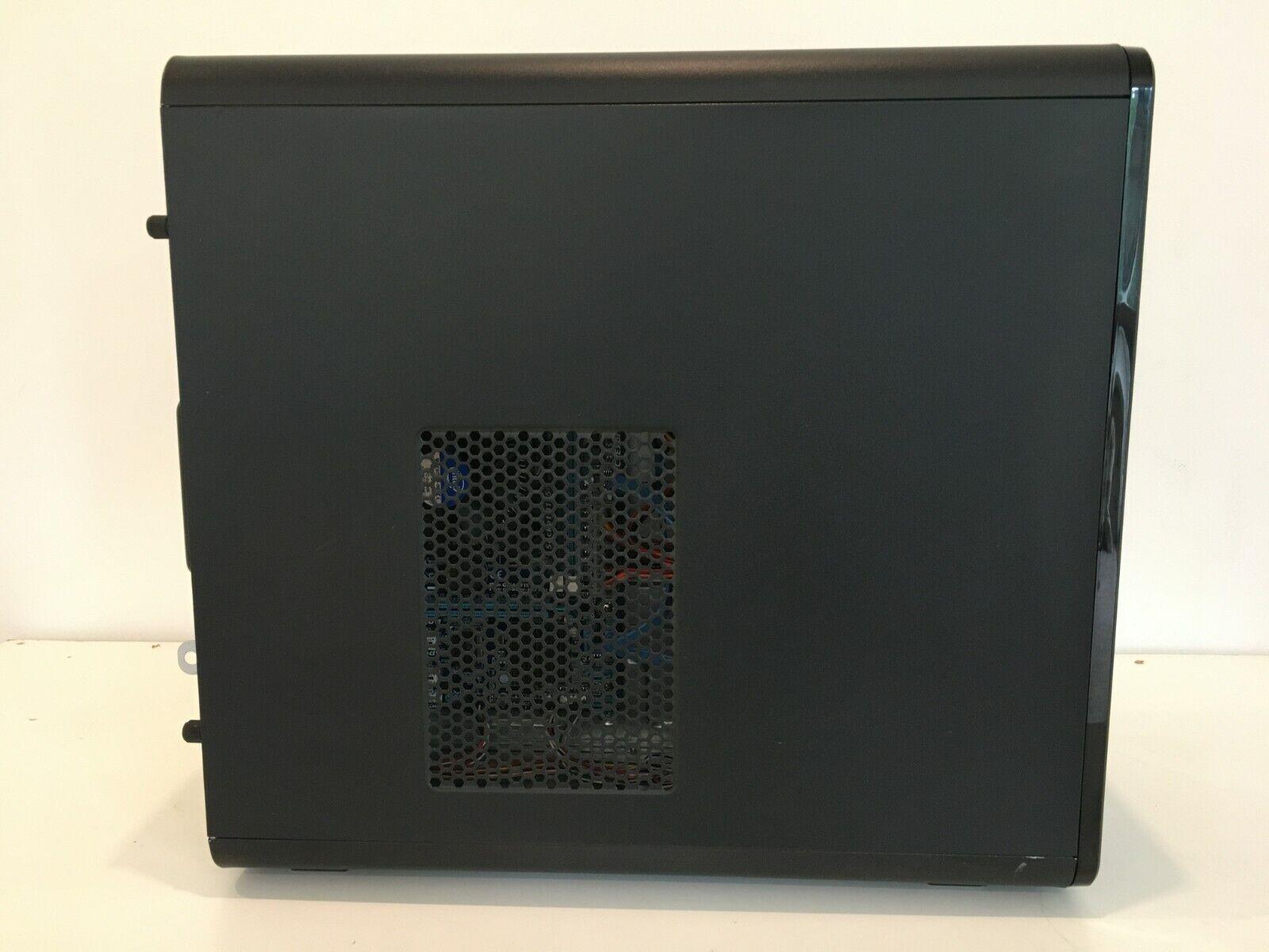DESKTOP PC: (147, 40, 1163, 890)
